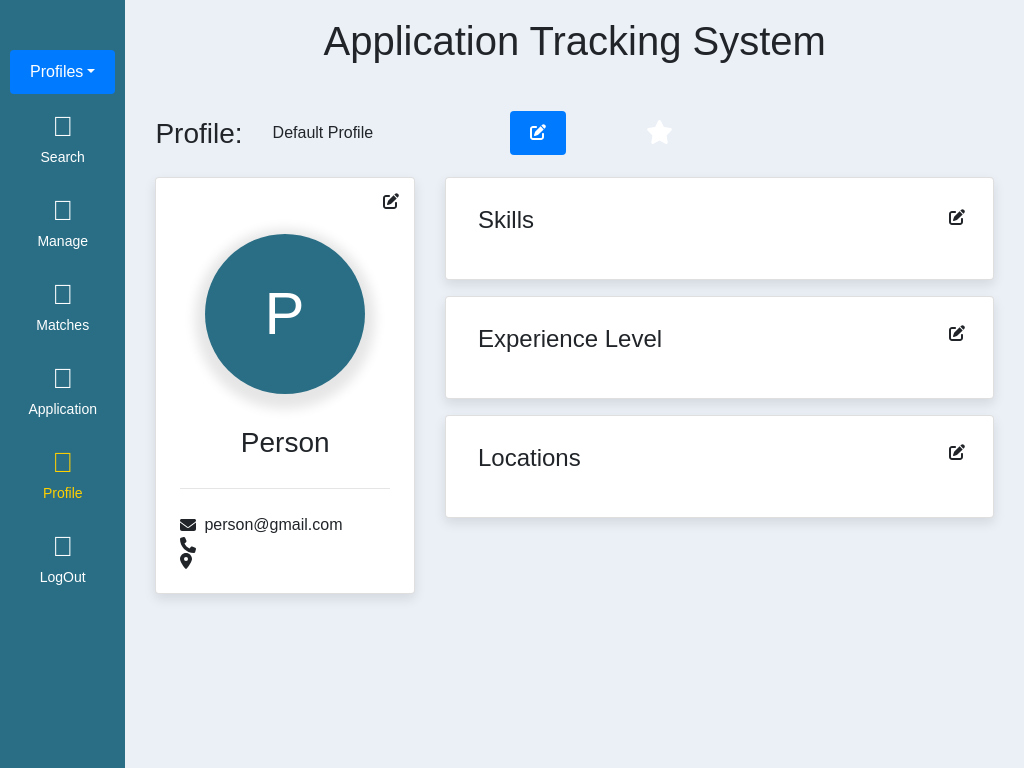
Test: App Component, logged in › displays logout modal when LogOut is clicked
Click the text "LogOut". click: (63, 577)
box: 40,567 -> 86,588
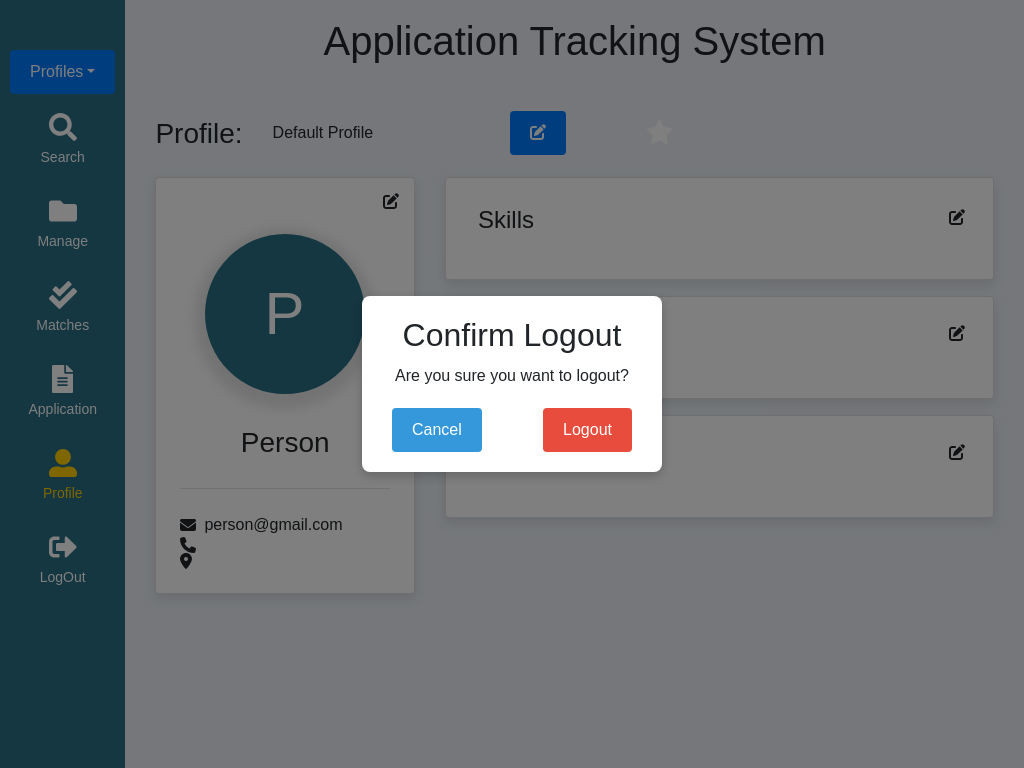
Expected: the heading "Confirm Logout" is shown, 392,316 -> 632,354
